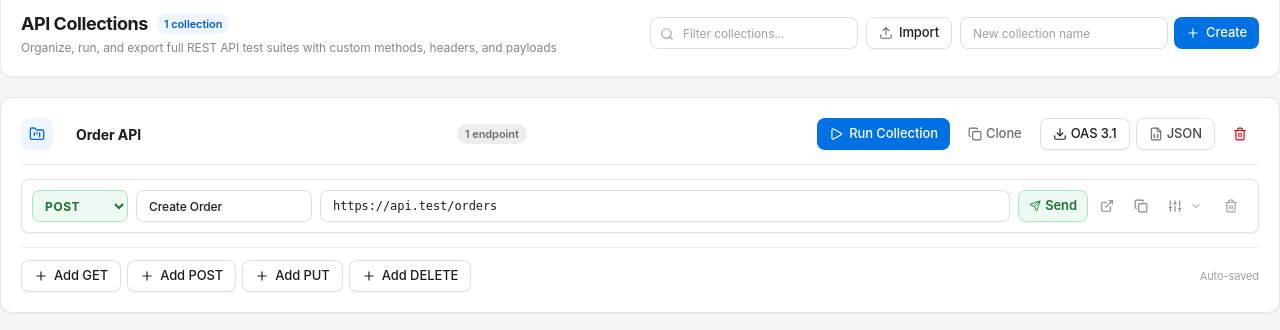
it: CollectionsPage Enhanced Features › executes a single request and displays live response status
Click the button "Send" at (1053, 206), box [1018,190,1088,222]
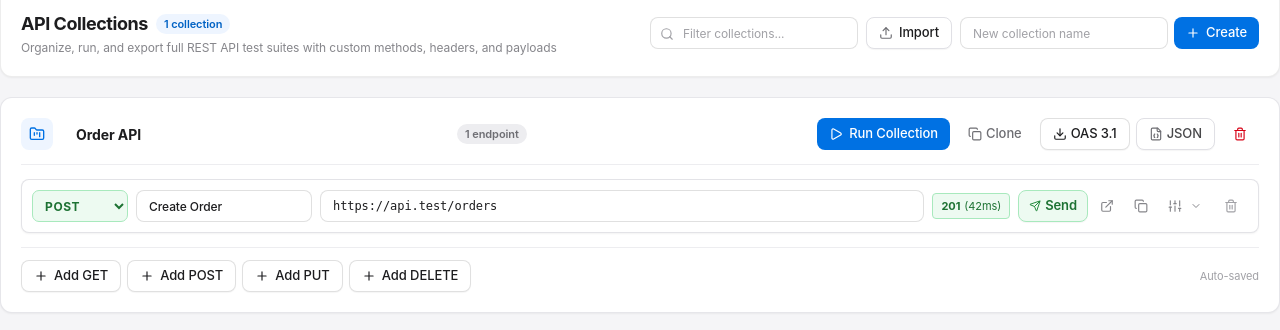
Expected: the text "201" is shown, [942,198,960,214]
Expected: the text "(42ms)" is shown, [964,198,1001,214]
